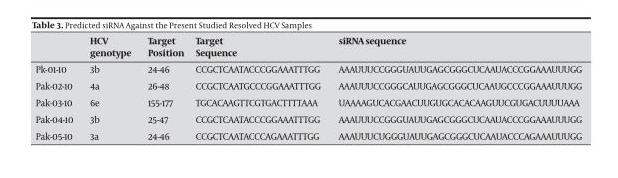table: (34, 34, 581, 141)
table column: (328, 34, 581, 141), (189, 34, 328, 141), (80, 34, 138, 141), (138, 34, 189, 141), (34, 34, 80, 141)
table column header: (34, 34, 581, 60)
table row: (34, 34, 581, 60), (34, 60, 581, 77), (34, 93, 581, 110), (34, 110, 581, 127), (34, 77, 581, 93), (34, 127, 581, 141)
